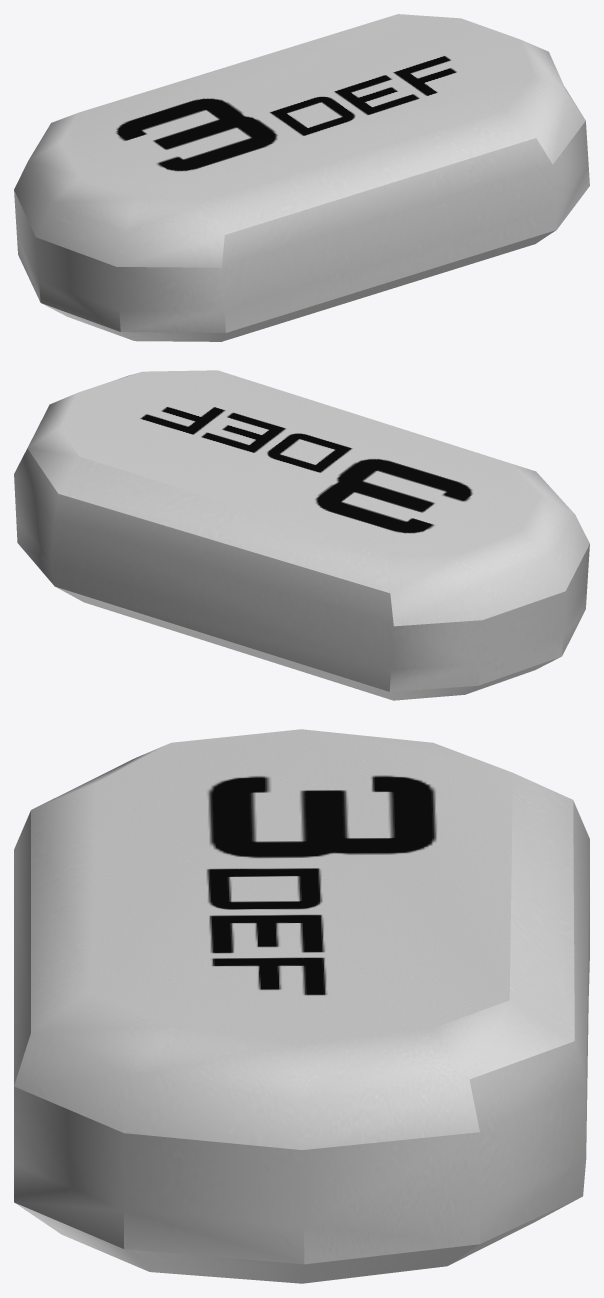
File: def3_button.glb
The picture shows the model from 3 angles, top to bottom: view 1: azimuth 30°, elevation 25°; view 2: azimuth 150°, elevation 25°; view 3: azimuth 270°, elevation 25°; orthographic projection. The views are drawn at different scales.
Visible parts, largest first — view 1: def3_button; view 2: def3_button; view 3: def3_button.
Part boxes in pixels (left/top/right/bottom): def3_button: left=14, top=14, right=589, bottom=341; def3_button: left=14, top=370, right=589, bottom=700; def3_button: left=14, top=729, right=589, bottom=1283.
Size of the model in its own units: 0.00277 by 0.000842 by 0.00156.
1 material, 1 textured.
